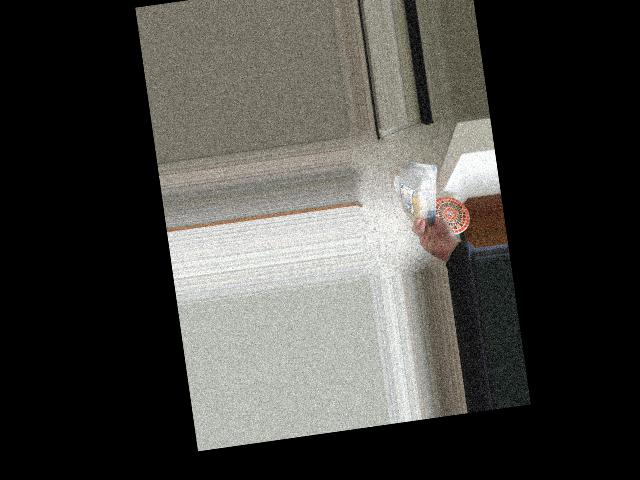cheese: (395, 158, 441, 228)
